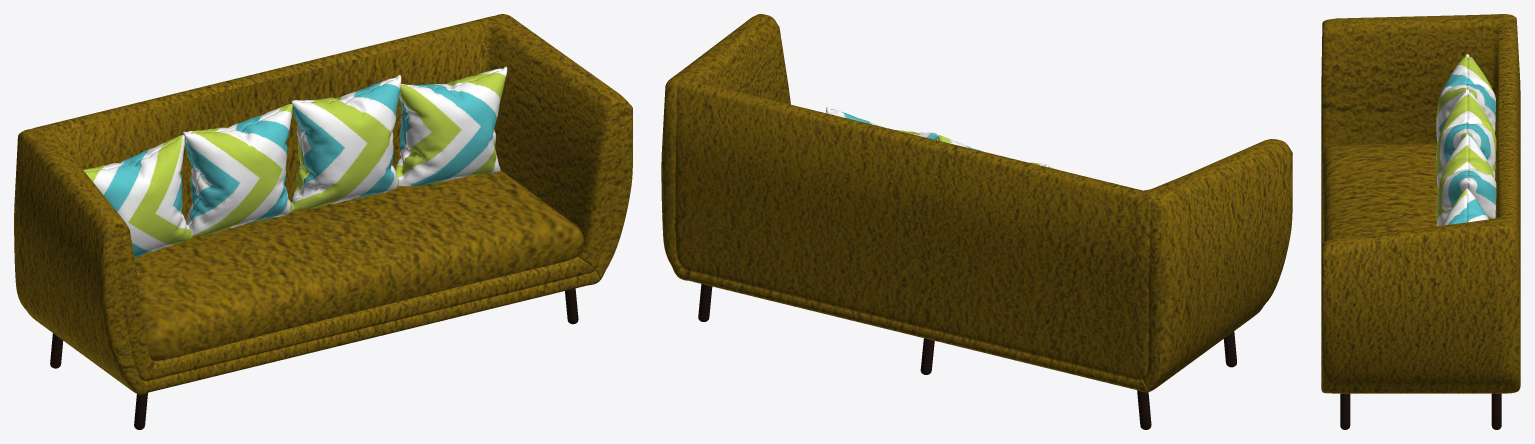
3 views of the same model, side by side, from view 1: azimuth 30°, elevation 25°; view 2: azimuth 150°, elevation 25°; view 3: azimuth 270°, elevation 25° (orthographic). The views are drawn at different scales.
Parts seen in each view (by area): view 1: couch, seat, pillow_03_geo, Legs_03_geo; view 2: couch, Legs_03_geo, pillow_03_geo; view 3: couch, seat, pillow_03_geo, Legs_03_geo.
Part boxes in pixels (x1,y1,x2,y2): couch: (14,14,632,394); seat: (134,170,583,360); pillow_03_geo: (83,66,507,257); Legs_03_geo: (50,288,578,429); couch: (661,14,1292,392); Legs_03_geo: (698,284,1236,429); pillow_03_geo: (826,107,1054,168); couch: (1321,14,1520,393); seat: (1322,143,1438,242); pillow_03_geo: (1436,54,1496,226); Legs_03_geo: (1340,393,1501,429).
Size of the model in its own units: 2.09 by 0.8926 by 0.7535.
4 materials, 3 textured.
